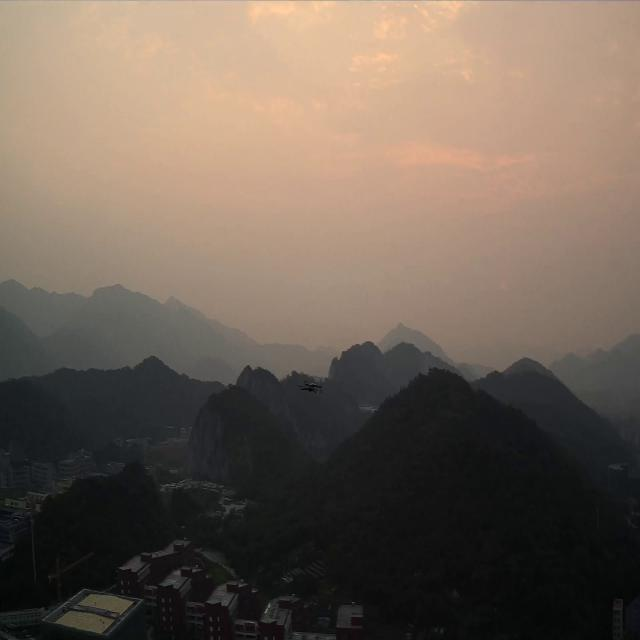drone: (296, 380, 322, 393)
